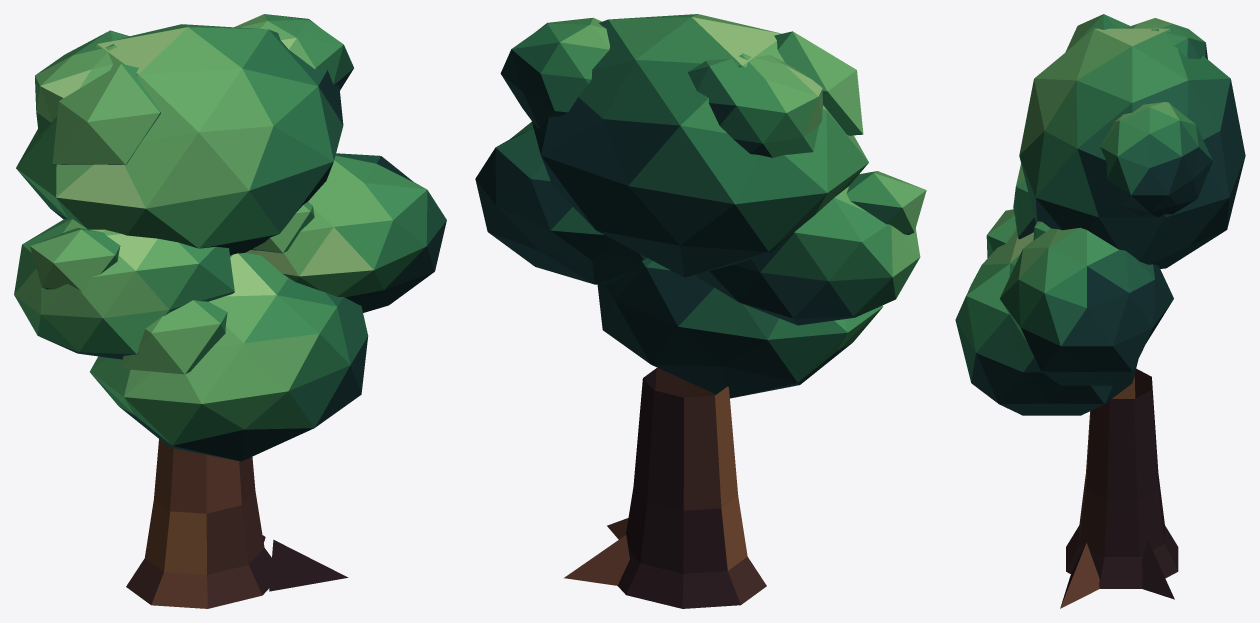
Rendered from tree_tree24.glb.
3 renders of one model, left to right at view 1: azimuth 30°, elevation 25°; view 2: azimuth 150°, elevation 25°; view 3: azimuth 270°, elevation 25°, orthographic. The views are drawn at different scales.
Visible parts, largest first — view 1: tree24; view 2: tree24; view 3: tree24.
Boxes of the visible parts, x1,y1,x2,y2 form: tree24: (14, 14, 446, 608); tree24: (475, 14, 926, 608); tree24: (955, 14, 1245, 608).
Bounding box in the file's own units: 1.1 × 1.43 × 0.7395.
